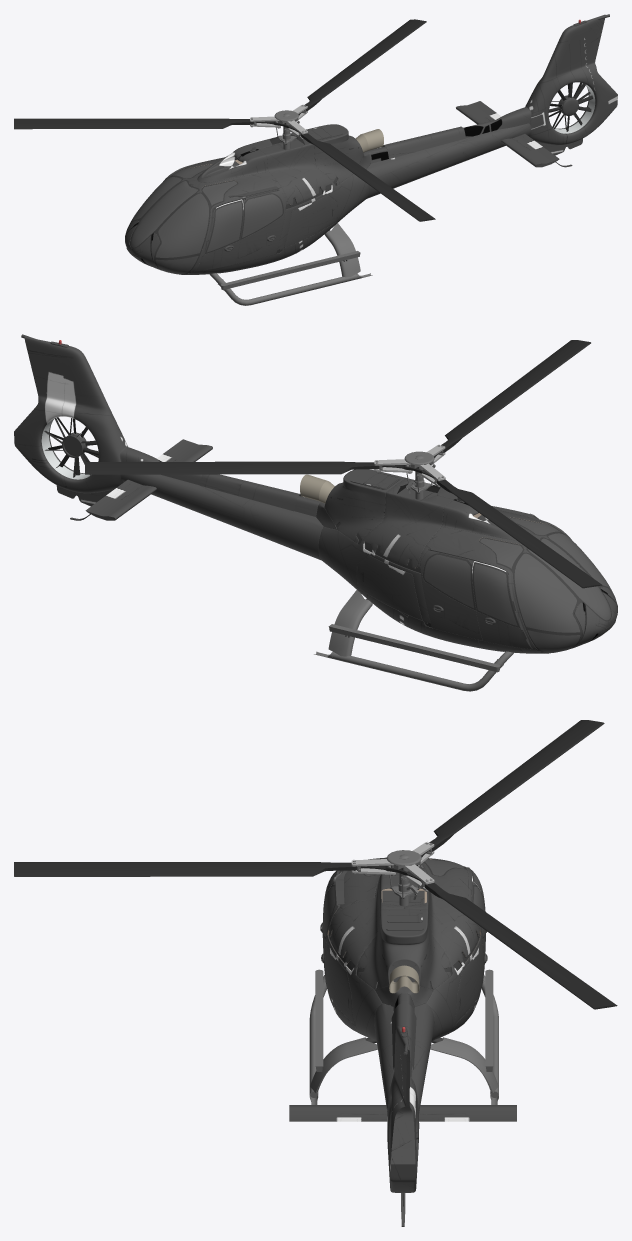
The model's file is zhishengji.gltf.
3 views of the same model, one above another, from view 1: azimuth 30°, elevation 25°; view 2: azimuth 150°, elevation 25°; view 3: azimuth 270°, elevation 25° (orthographic). The views are drawn at different scales.
Parts seen in each view (by area): view 1: 直升机1; view 2: 直升机1; view 3: 直升机1.
Part boxes in pixels (x1,y1,x2,y2): 直升机1: [14, 14, 617, 305]; 直升机1: [14, 334, 617, 691]; 直升机1: [14, 720, 617, 1226].
Bounding box in the file's own units: 11.19 × 3.47 × 7.61.
12 materials, 1 textured.
